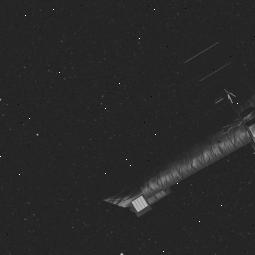xmm_newton: (101, 94, 255, 223)
